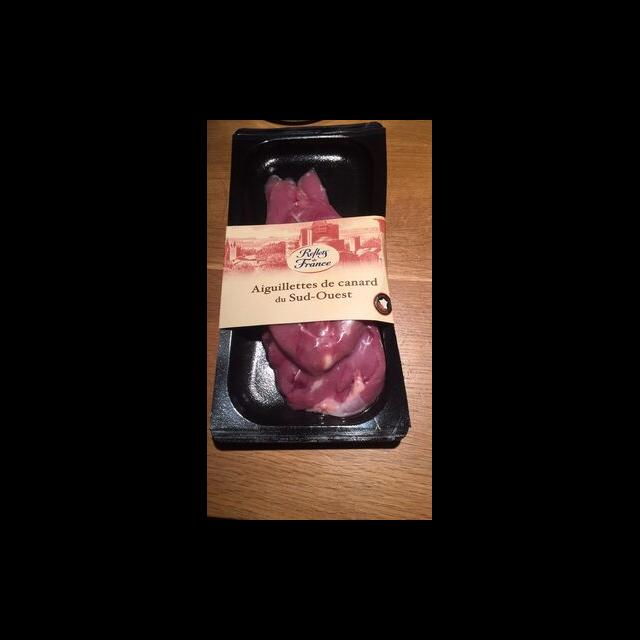beef: (263, 168, 363, 362), (259, 325, 385, 415)
